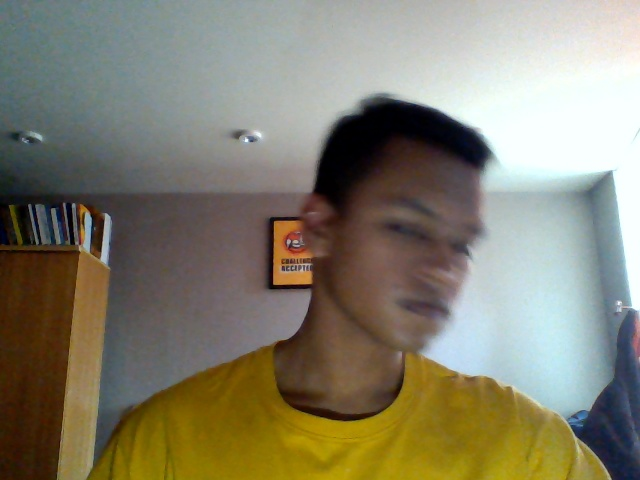no_mask: (322, 248, 467, 356)
